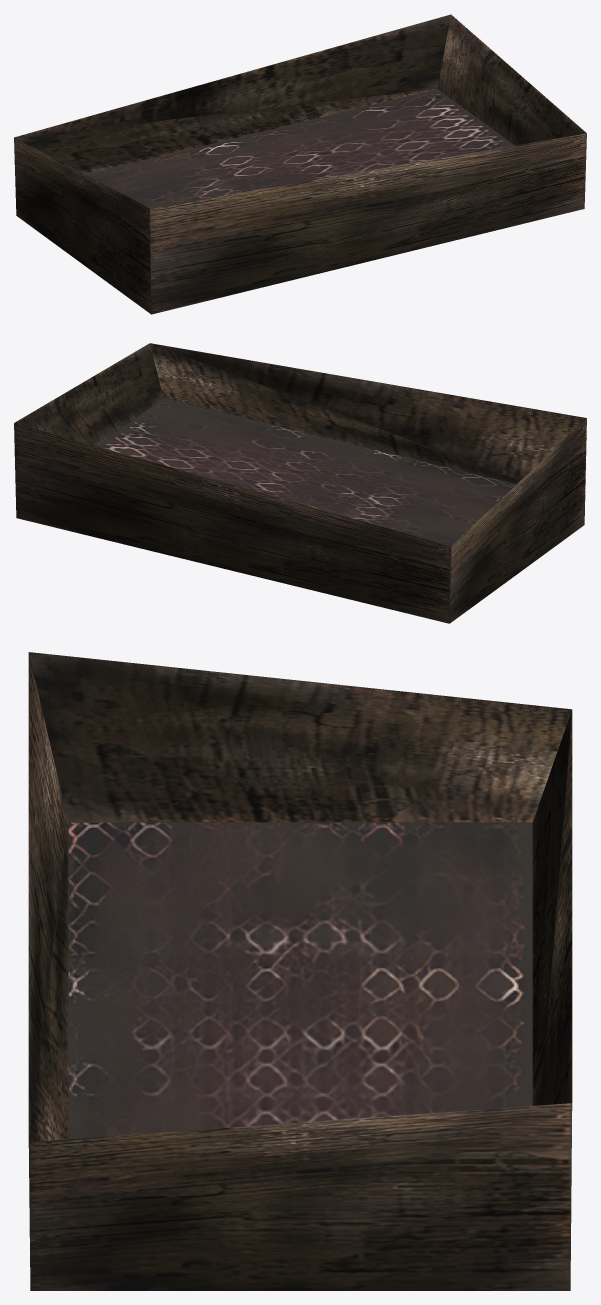
Rendered from cottage2burned.gltf.
3 views of the same model, one above another, from view 1: azimuth 30°, elevation 25°; view 2: azimuth 150°, elevation 25°; view 3: azimuth 270°, elevation 25° (orthographic). The views are drawn at different scales.
Parts seen in each view (by area): view 1: cottage2burned_atomic0; view 2: cottage2burned_atomic0; view 3: cottage2burned_atomic0.
Boxes of the visible parts, x1,y1,x2,y2 form: cottage2burned_atomic0: (14, 14, 586, 314); cottage2burned_atomic0: (14, 343, 586, 623); cottage2burned_atomic0: (28, 652, 572, 1290).
Size of the model in its own units: 22.83 by 5.34 by 12.29.
1 material, 1 textured.
